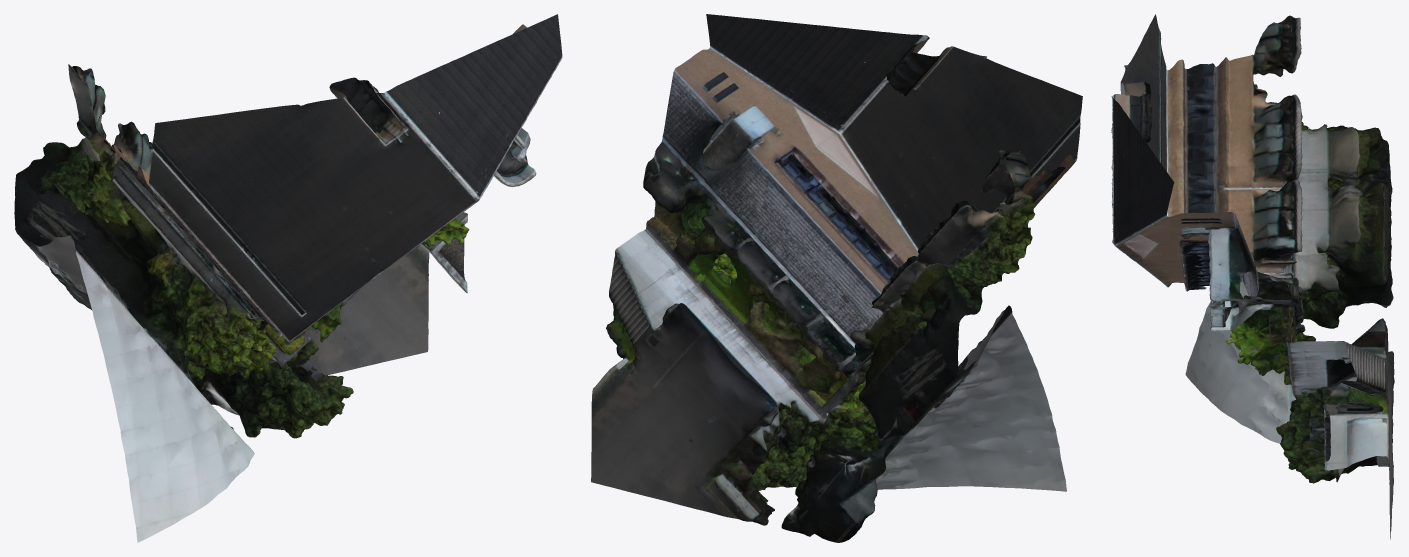
Rendered from Tile_+013_+010.fbx.
The picture shows the model from 3 angles, left to right: view 1: azimuth 30°, elevation 25°; view 2: azimuth 150°, elevation 25°; view 3: azimuth 270°, elevation 25°; orthographic projection. The views are drawn at different scales.
Visible parts, largest first — view 1: DefaultName; view 2: DefaultName; view 3: DefaultName.
Boxes of the visible parts, x1,y1,x2,y2 form: DefaultName: (14,14,562,542); DefaultName: (591,14,1082,542); DefaultName: (1111,14,1394,539).
Bounding box in the file's own units: 22.54 × 22.54 × 16.05.
